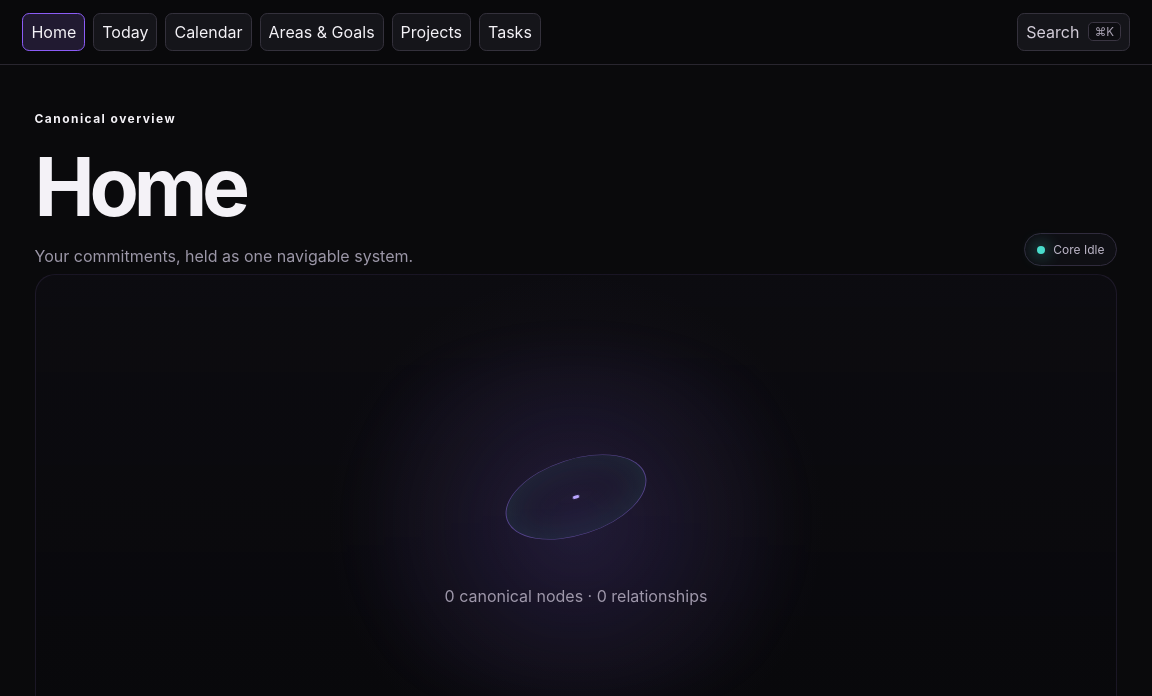
Scenario: renders direct blocker counts and retains the canonical Area on failed Trash
Click the button "Areas & Goals": (322, 32) [260,13,384,51]
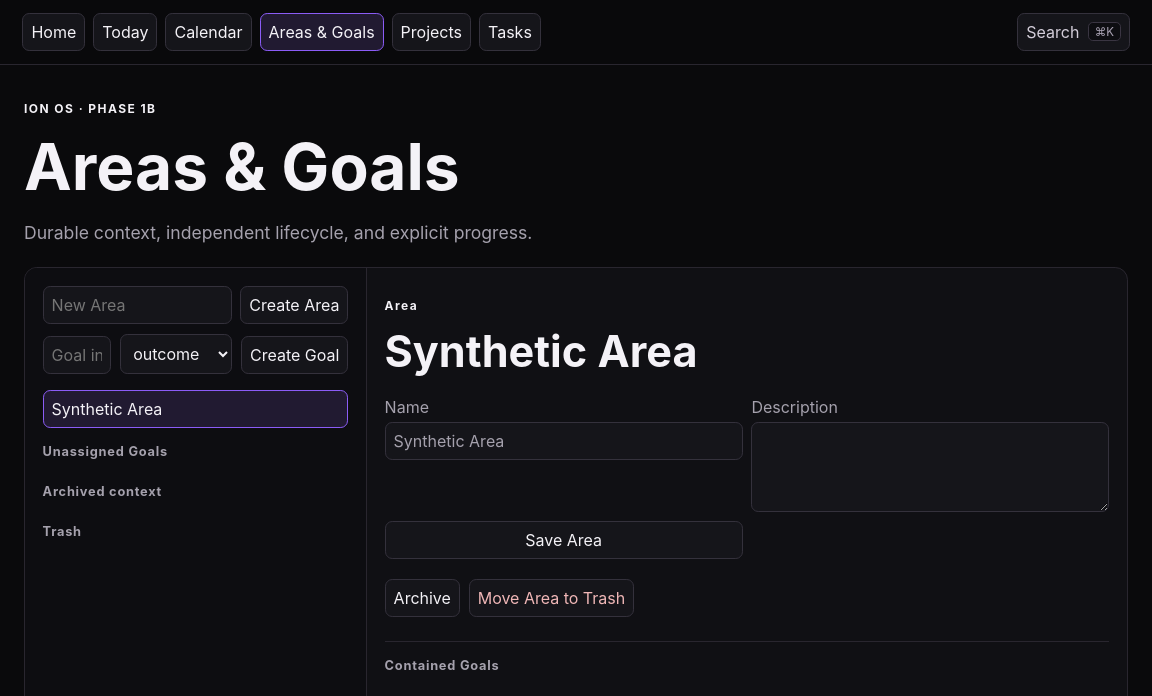
Click the button "Move Area to Trash": (551, 598) [469,579,634,617]
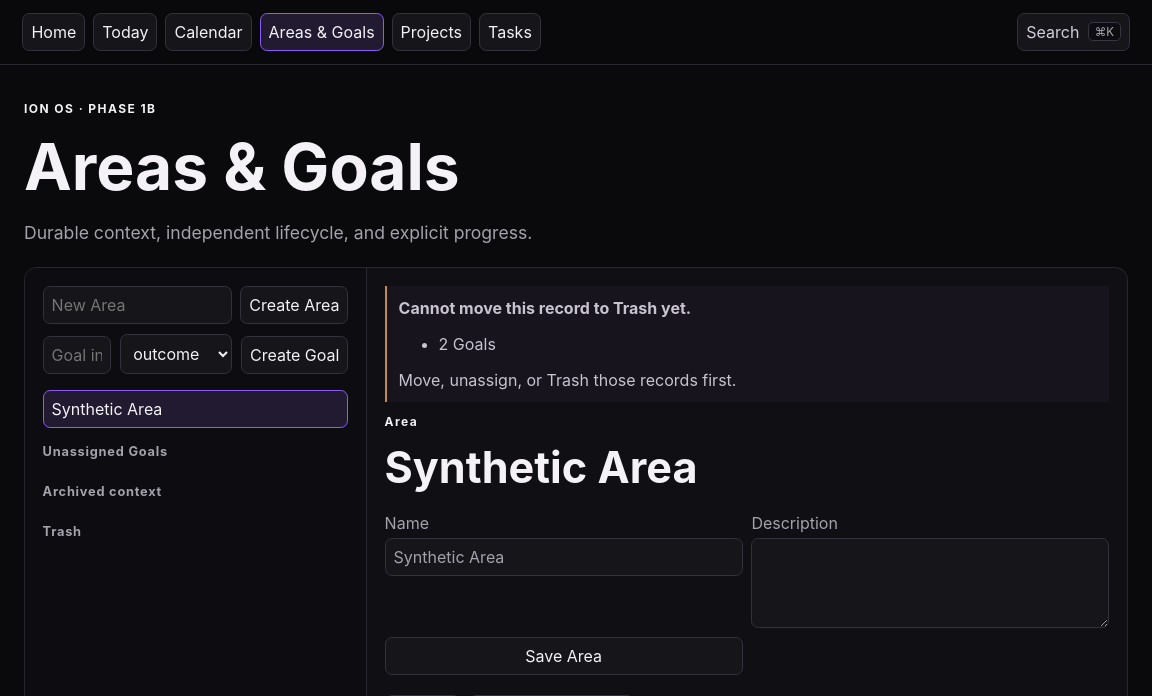
Result: the heading "Synthetic Area" is shown at [385,441,698,493]
Result: the text "Cannot move this record to Trash yet." is shown at [399,298,691,318]
Result: the list item "2 Goals" is shown at [439,334,496,354]
